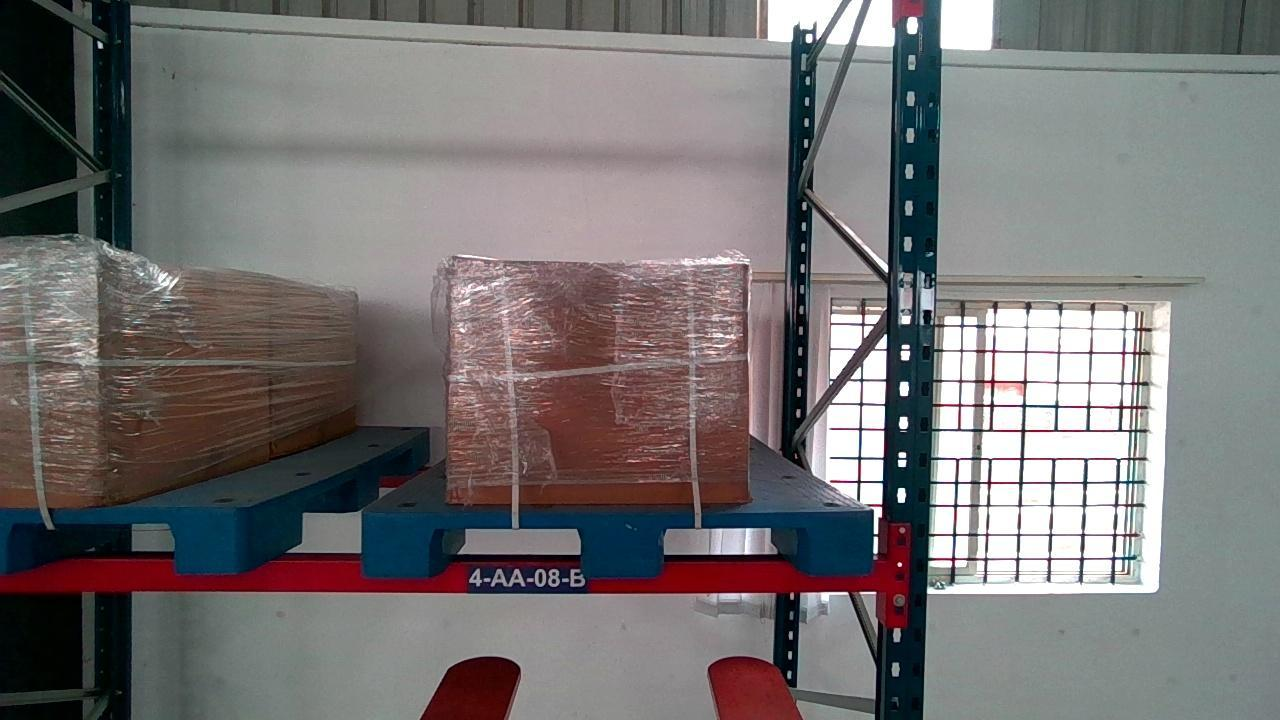h_rack: (0, 559, 894, 591)
small_pallet: (362, 509, 870, 574)
